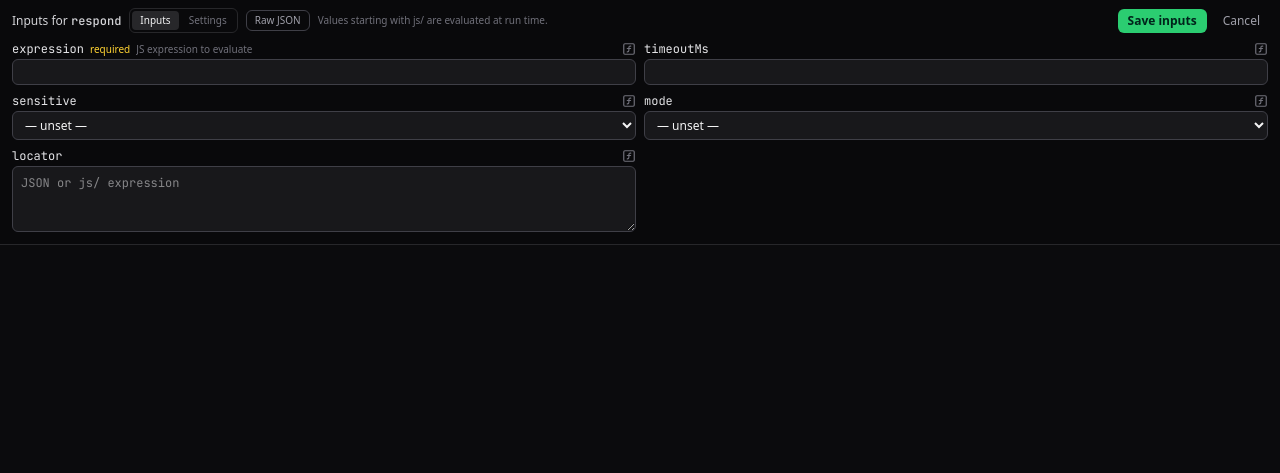
Test case: Settings tab › blocks save on an invalid maxDuration and shows the message
The width and height of the screenshot is (1280, 473).
Click the tab "Settings" at (208, 20), box [181,11,235,30]
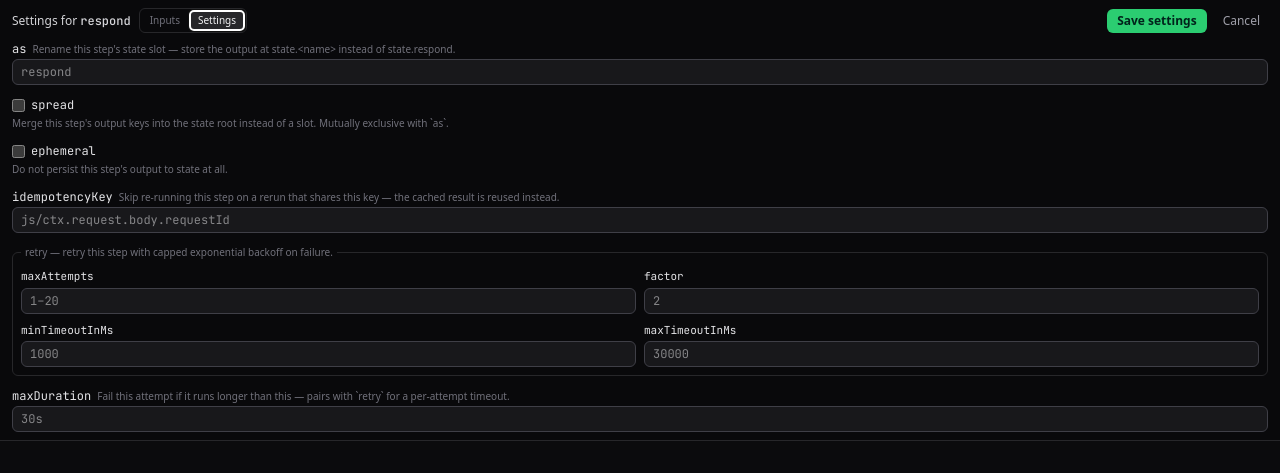
Type "thirty-seconds" into the field labelled "maxDuration" at (640, 419), box [12,406,1268,432]
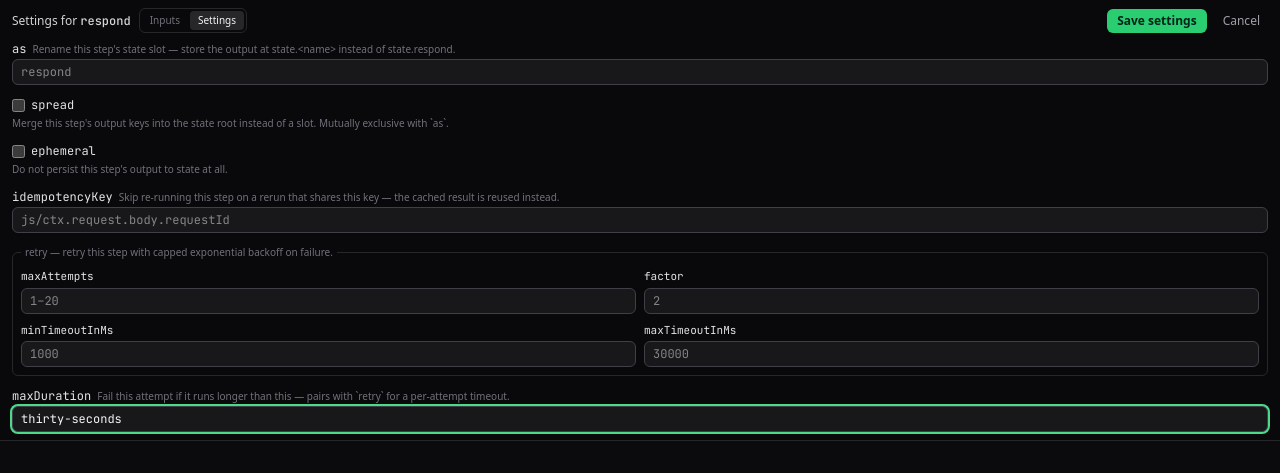
Click the button "Save settings" at (1157, 20), box [1107,8,1207,32]
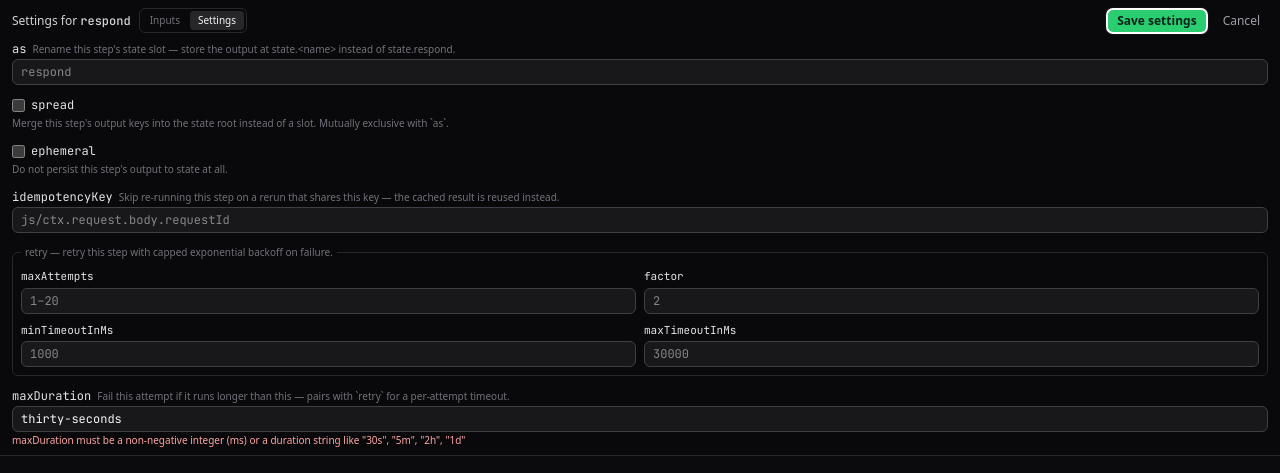
expect the text "maxDuration must be" is shown: met, box [12,433,465,447]
